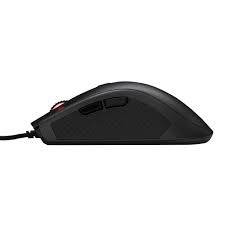mouse: (26, 80, 215, 147)
